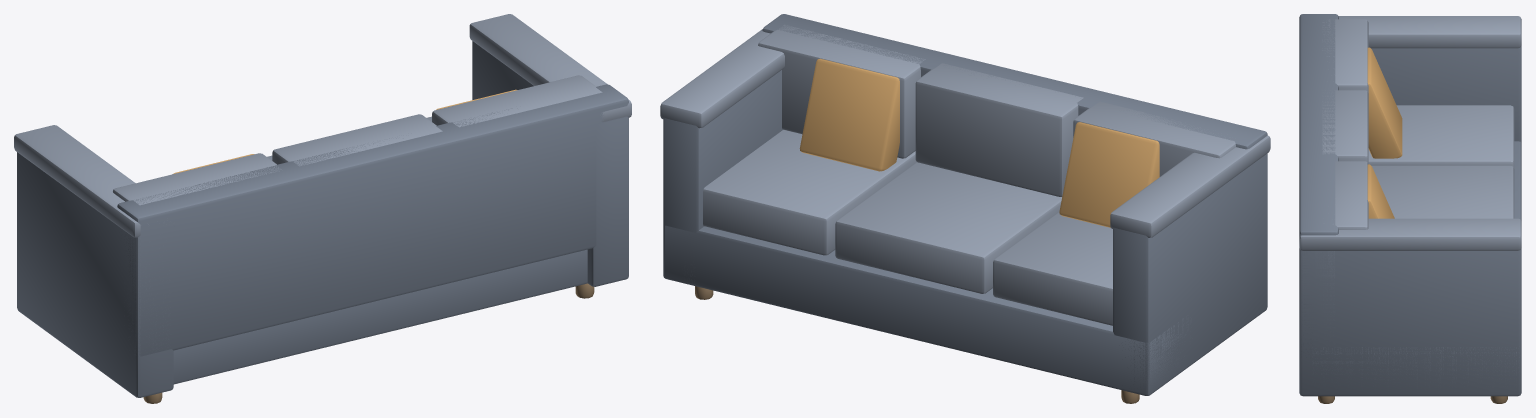
File: th11_sofa.glb
3 views of the same model, side by side, from view 1: azimuth 30°, elevation 25°; view 2: azimuth 150°, elevation 25°; view 3: azimuth 270°, elevation 25° (orthographic). The views are drawn at different scales.
Visible parts, largest first — view 1: Cube.004, Cube.008, Cube, Cube.010, Cube.009, Cube.011, Cube.007, Cube.006, Cube.005; view 2: Cube, Cube.008, Cube.002, Cube.006, Cube.003, Cube.001, Cube.010, Cube.013, Cube.004, Cube.007, Cube.012, Cube.009 (+2 smaller); view 3: Cube.010, Cube.004, Cube.008, Cube.001, Cube.002, Cube.011, Cube.009, Cube.006, Cube.012, Cube.005, Cube.007, Cube (+1 smaller).
Boxes of the visible parts, box(x1,y1,x2,y2) form: Cube.004: box(117, 84, 628, 356); Cube.008: box(17, 152, 173, 397); Cube: box(173, 249, 587, 384); Cube.010: box(472, 41, 628, 286); Cube.009: box(14, 125, 174, 237); Cube.011: box(469, 14, 631, 121); Cube.007: box(432, 75, 602, 127); Cube.006: box(272, 114, 442, 166); Cube.005: box(113, 153, 281, 205); Cube: box(664, 225, 1192, 395); Cube.008: box(1113, 153, 1267, 395); Cube.002: box(835, 162, 1061, 293); Cube.006: box(915, 63, 1083, 196); Cube.003: box(703, 129, 916, 255); Cube.001: box(993, 211, 1112, 325); Cube.010: box(663, 70, 782, 285); Cube.013: box(799, 58, 899, 171); Cube.004: box(762, 14, 1267, 149); Cube.007: box(758, 24, 925, 158); Cube.012: box(1059, 122, 1159, 227); Cube.009: box(1110, 135, 1270, 237); Cube.010: box(1299, 248, 1521, 396); Cube.004: box(1299, 14, 1338, 358); Cube.008: box(1371, 45, 1521, 142); Cube.001: box(1368, 105, 1514, 168); Cube.002: box(1371, 165, 1514, 218); Cube.011: box(1299, 218, 1521, 250); Cube.009: box(1338, 16, 1521, 48); Cube.006: box(1322, 90, 1368, 163); Cube.012: box(1367, 47, 1402, 158); Cube.005: box(1322, 19, 1368, 92); Cube.007: box(1333, 161, 1368, 229); Cube: box(1312, 141, 1521, 395).
Size of the model in its own units: 2.13 by 0.82 by 0.9.
